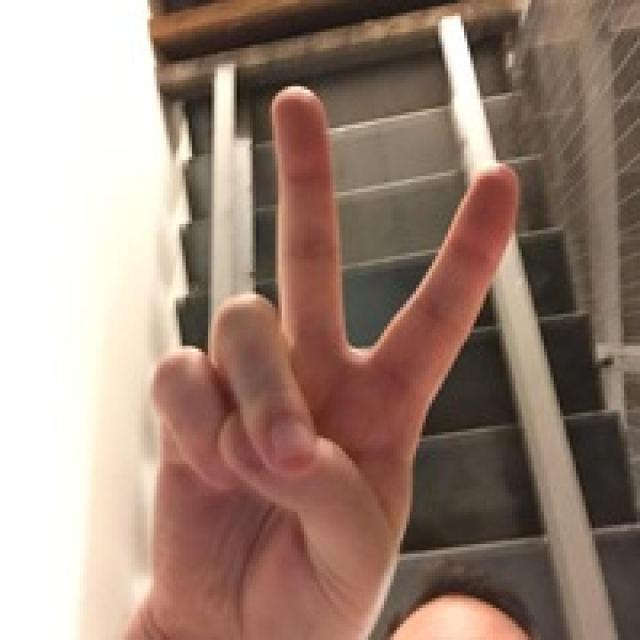V: (110, 62, 545, 639)
